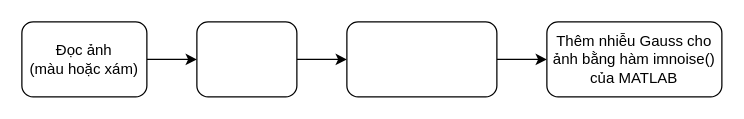
Image size: 744x119. Some labels were removed from this diagram. Here are the shapes that lost their labels. From the top down, the centre of each, then its label:
point (246, 59): Chuyển sang ảnh xám
point (421, 59): Crop ảnh về kích thước không quá 256x256
